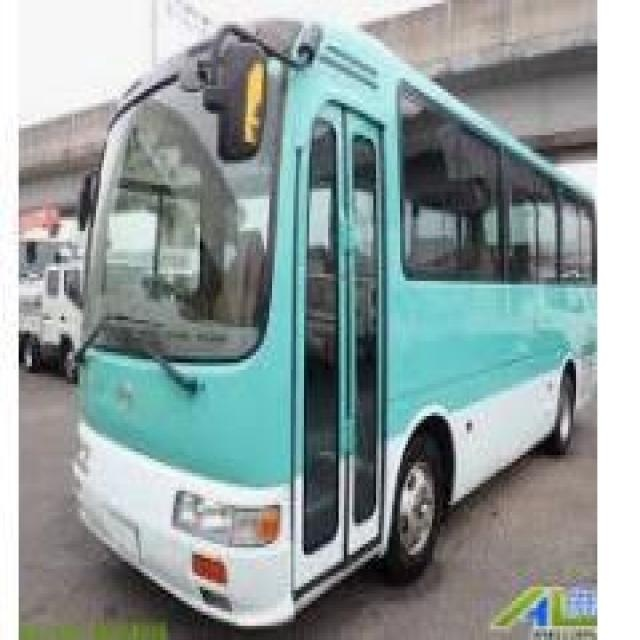Bus: (58, 11, 594, 618)
